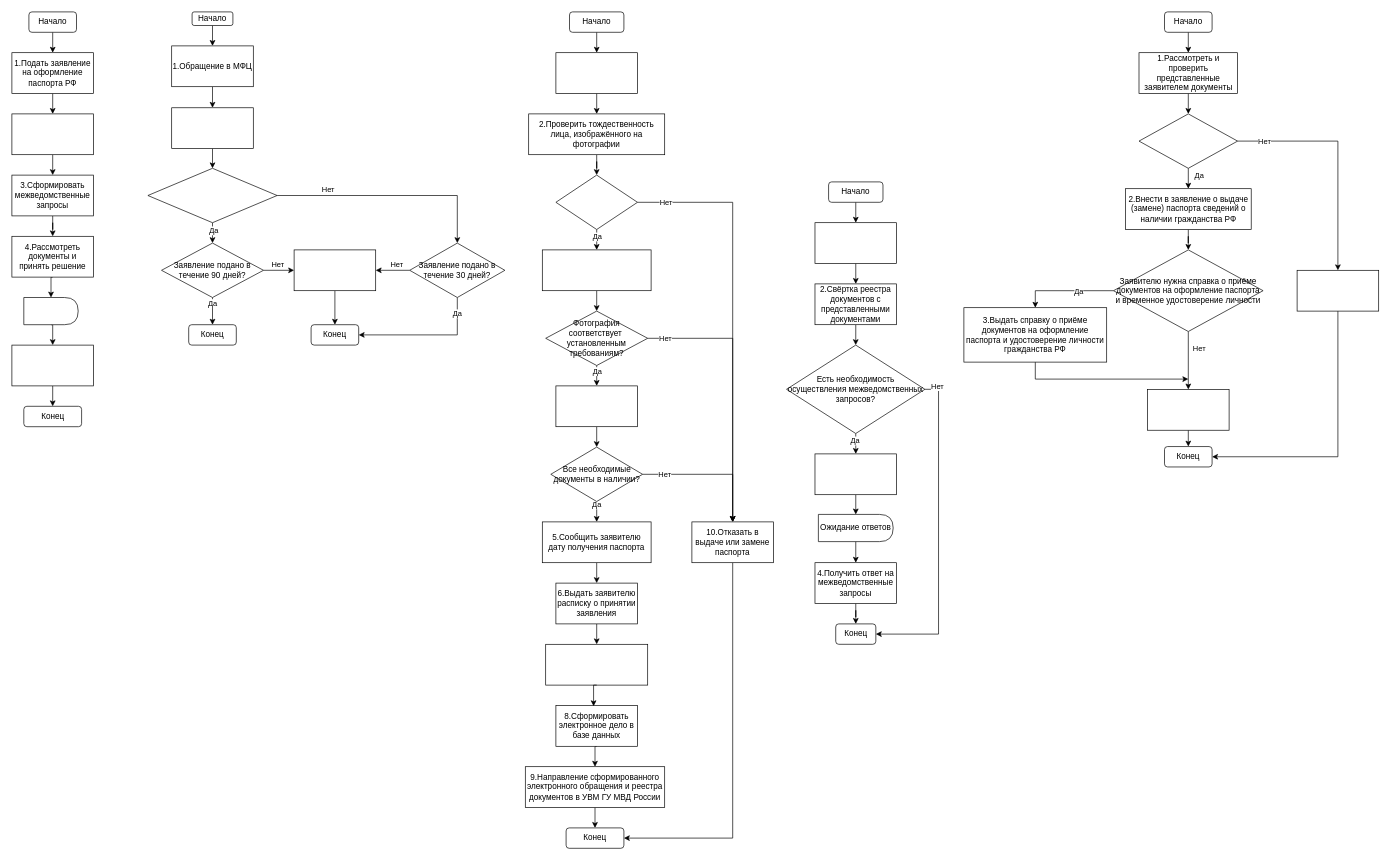
Some shapes in this 1391 by 860 pixel diagram are drawn without their labels. The centre of each missing label's shape, as x and y in pixels:
1.Получить реестр документов из МФЦ: pixel 855 243
1.Принять заявлениу по форме: pixel 596 73
10 дней: pixel 50 311
2.Подать заявление: pixel 212 128
2.Приём документов: pixel 52 134
3.Наложить штраф: pixel 334 270
3.Направление межведомственных запросов: pixel 855 474
3.Оценить качество и соответствие фотографий: pixel 596 270
4.Принять решение о выдаче или замене паспорта: pixel 1188 409
4.Проверить все необходимые документы: pixel 596 406
5.Отказать в выдаче или замене паспорта: pixel 1337 290
5.Получить нового паспорта: pixel 52 365
7.Осуществить сканирование представленных документов и заявления: pixel 596 664
Все представленные документы подлинные?: pixel 1188 140
Лицо предъявителя совпадает с фотографией?: pixel 596 202
Причина заявления - достижение 14 летнего, 20 летнего и 45 летнего возраста?: pixel 212 195
